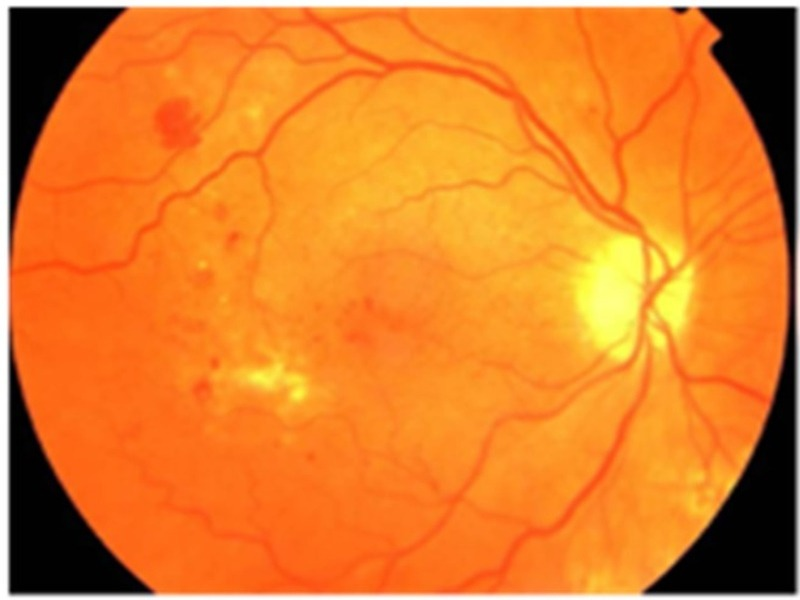Optic Disc: (580, 234, 692, 356)
